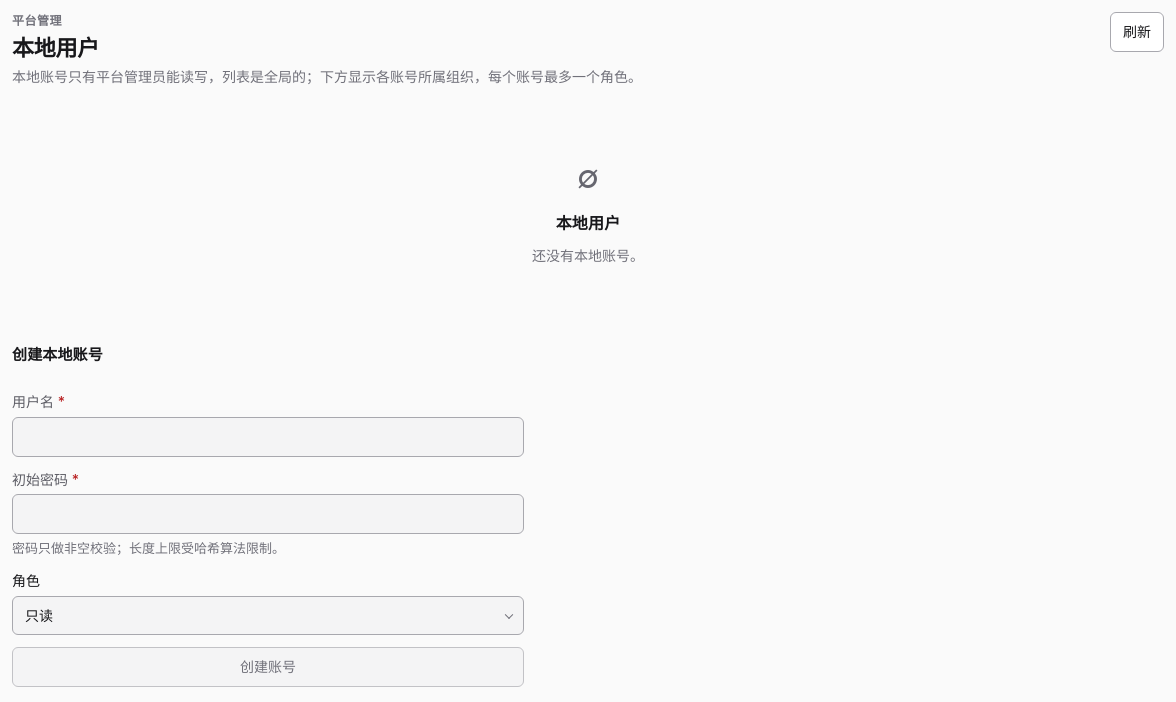
Scenario: LocalUsersPage › creates an account and reports it
Step 1. Type "carol" into the field named "username" → (268, 437), box [12,417,524,457]
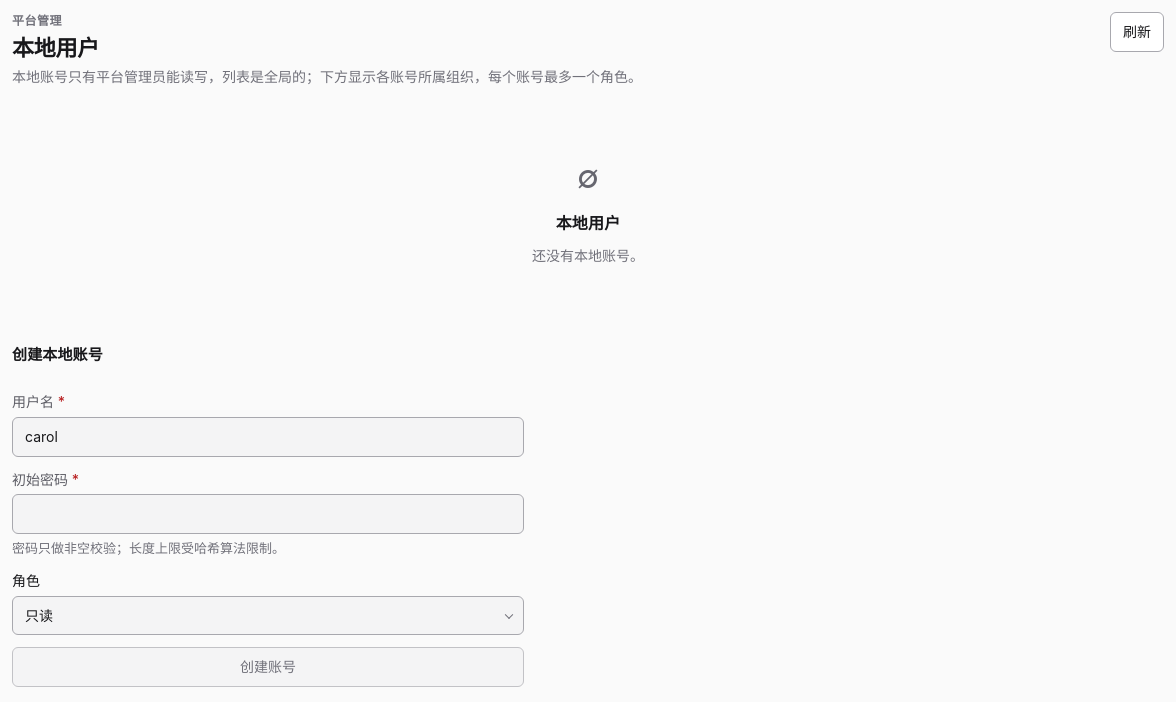
Step 2. Type "s3cret-value" into the password field named "password" → (268, 514), box [12,494,524,534]
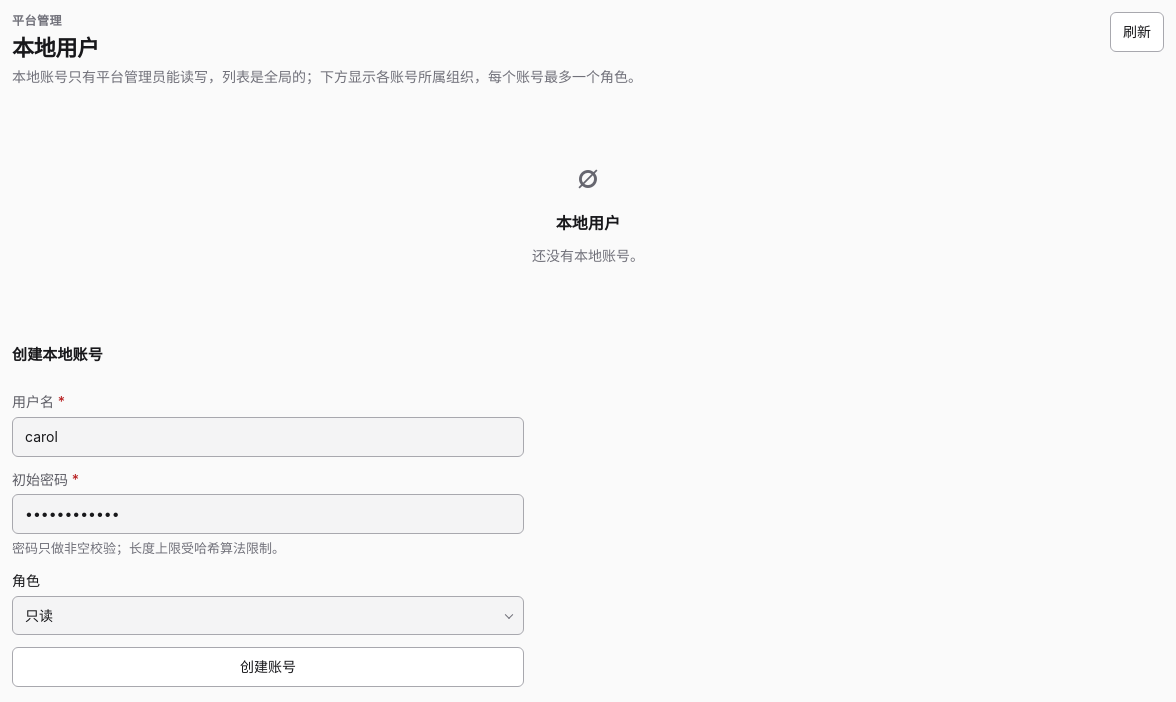
Step 3. Submit the form, box [12,331,524,687]
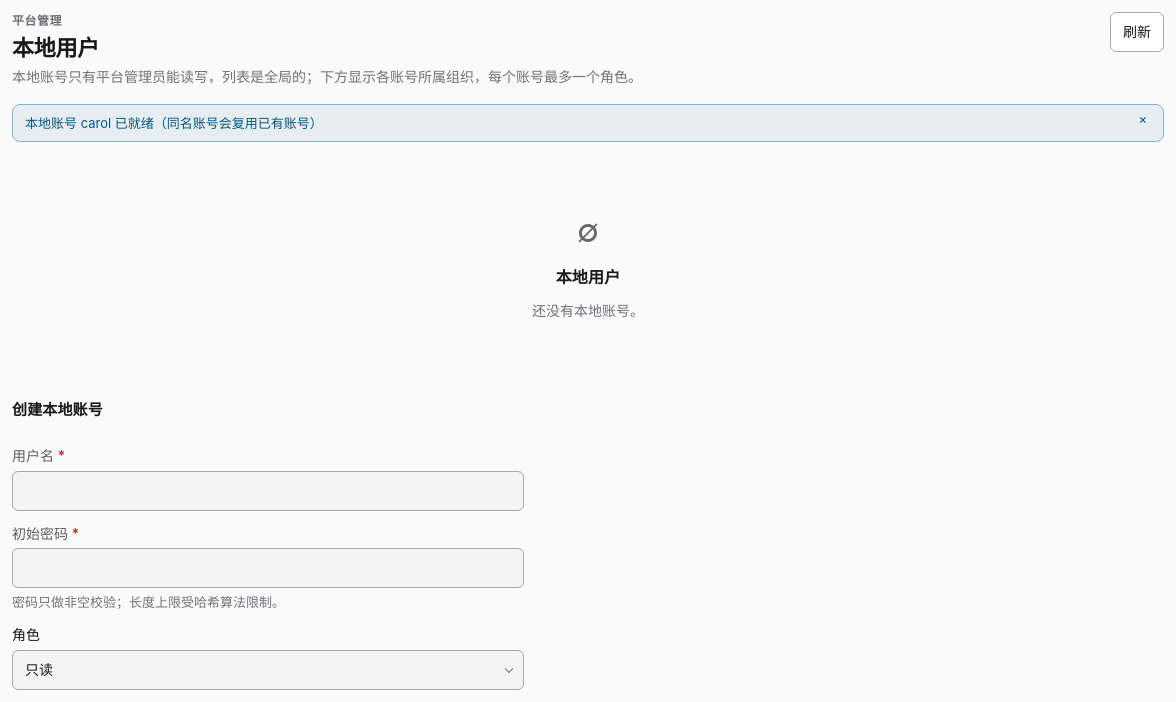
Check: the message with test id "local-users-notice" shows "carol", box [25,115,323,131]
Check: the message with test id "local-users-notice" shows "已就绪", box [25,115,323,131]
